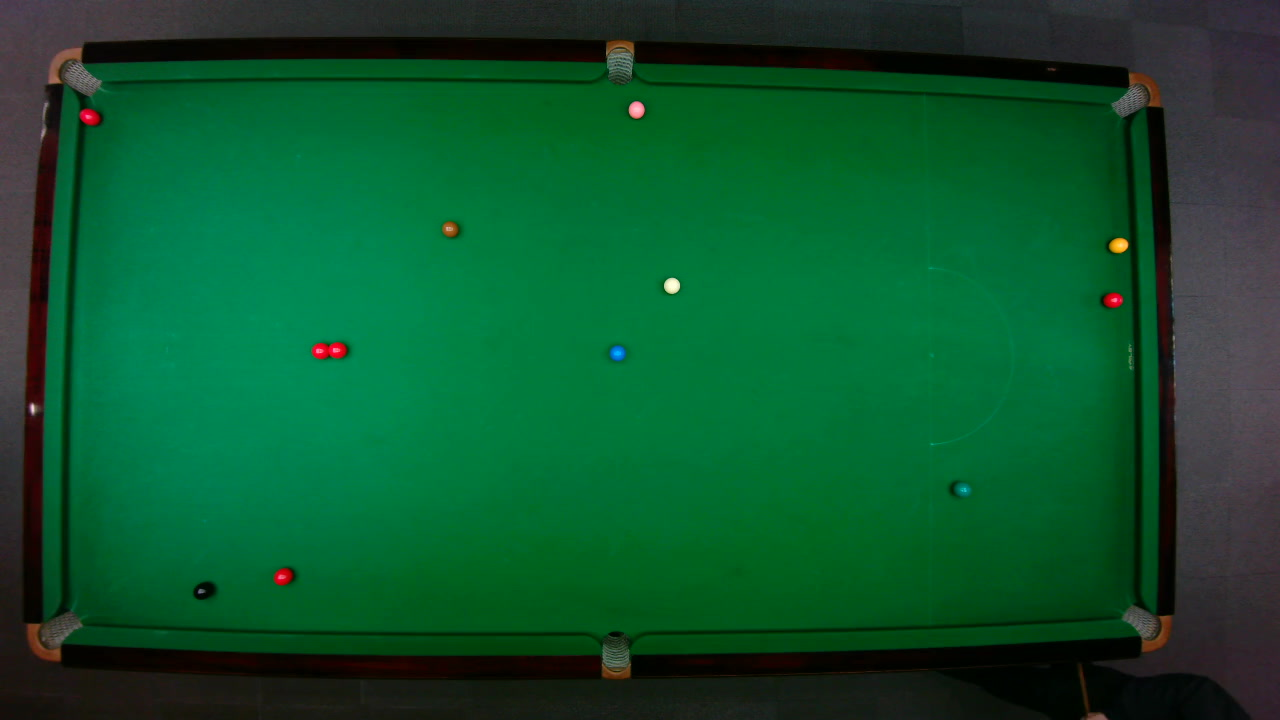bag: (25, 609, 83, 661), (46, 46, 102, 96), (1119, 603, 1172, 652), (1108, 71, 1161, 118), (600, 629, 629, 680), (605, 38, 633, 85)
black: (192, 581, 212, 600)
blue: (608, 344, 626, 361)
brown: (440, 220, 459, 238)
green: (951, 480, 972, 497)
pink: (626, 99, 645, 119)
red: (77, 107, 101, 126), (272, 566, 294, 585), (325, 340, 347, 359), (310, 341, 331, 360), (1101, 291, 1123, 308)
white: (661, 276, 681, 294)
yellow: (1107, 236, 1129, 253)
zone: (927, 265, 1013, 445)
